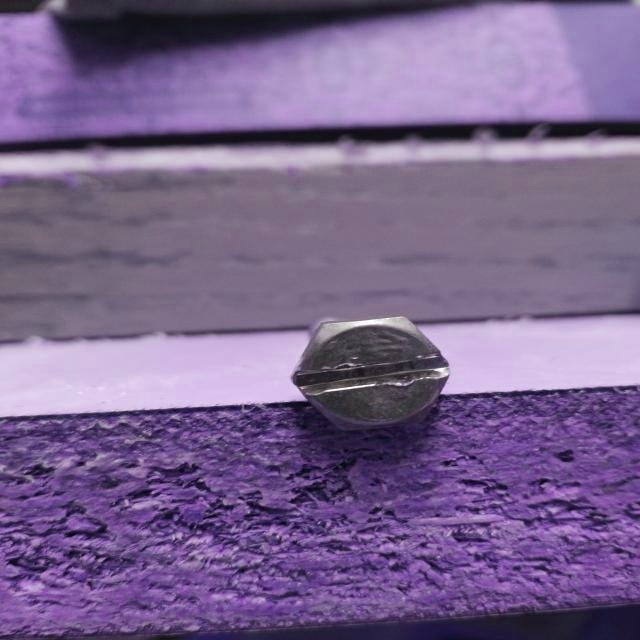duz: (292, 314, 452, 434)
